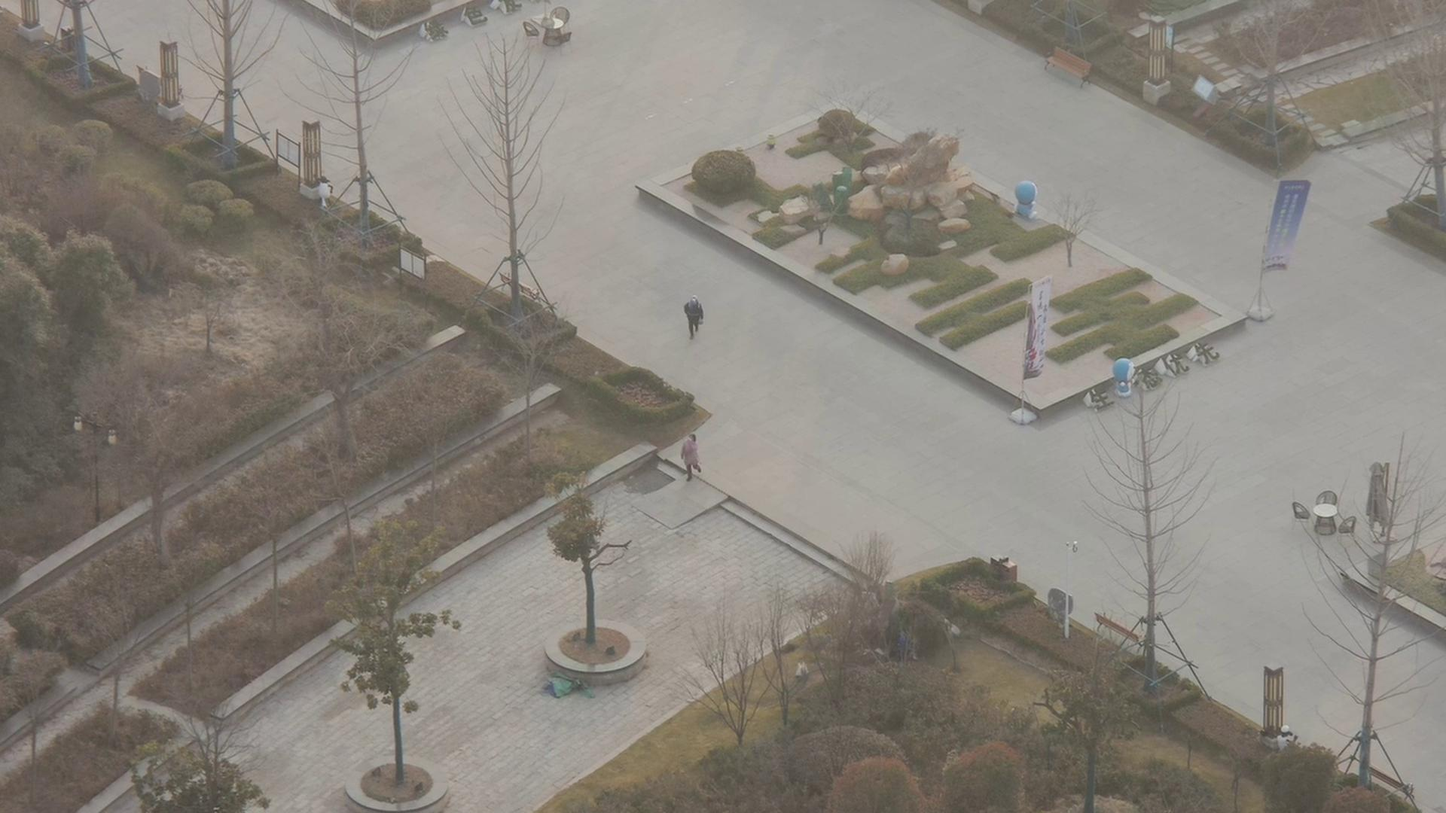human: (678, 278, 710, 349), (681, 426, 713, 486)
